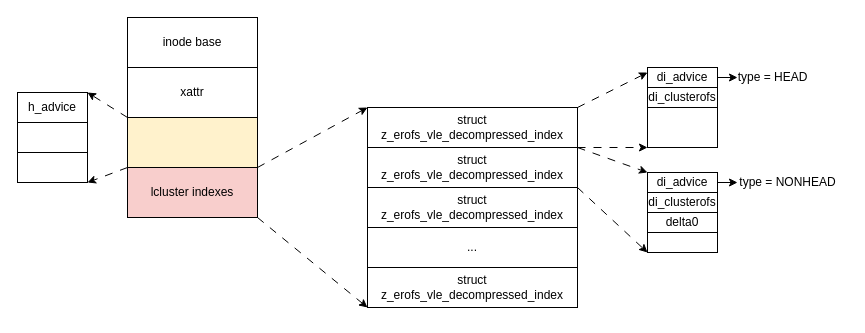
The diagram is 865 pixels wide and 333 high, and some of its shapes have lost their labels. The shapes that lost their labels are listed below. From the top down, each one's centre as x and y in pixels, then its label:
At point (52, 137): "h_algtype".
At point (192, 142): "struct z_erofs_map_header".
At point (682, 127): "blkaddr".
At point (52, 167): "h_clusterbits".
At point (682, 242): "delta1".
